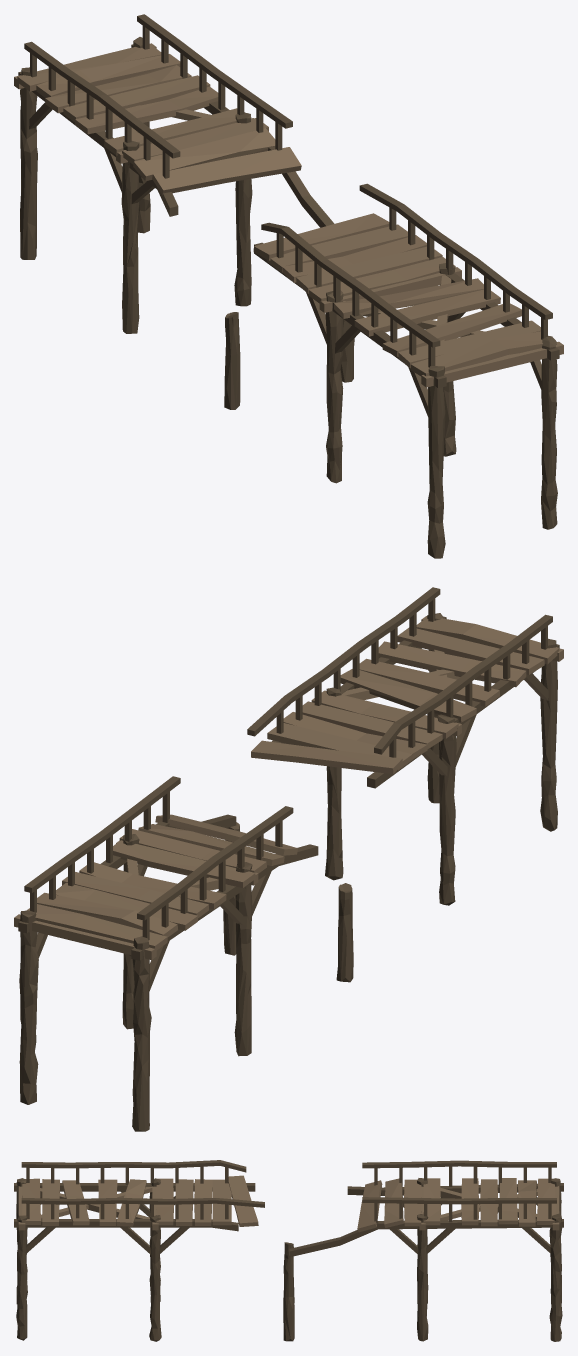
File: bridge_e_destroyed.FBX
3 renders of one model, top to bottom at view 1: azimuth 30°, elevation 25°; view 2: azimuth 150°, elevation 25°; view 3: azimuth 270°, elevation 25°, orthographic. The views are drawn at different scales.
Visible parts, largest first — view 1: bridge_e_destroyed; view 2: bridge_e_destroyed; view 3: bridge_e_destroyed.
Part boxes in pixels (x1,y1,x2,y2): bridge_e_destroyed: [14, 14, 563, 558]; bridge_e_destroyed: [14, 587, 563, 1131]; bridge_e_destroyed: [14, 1160, 563, 1341].
Bounding box in the file's own units: 5.11 × 7.39 × 25.75.
